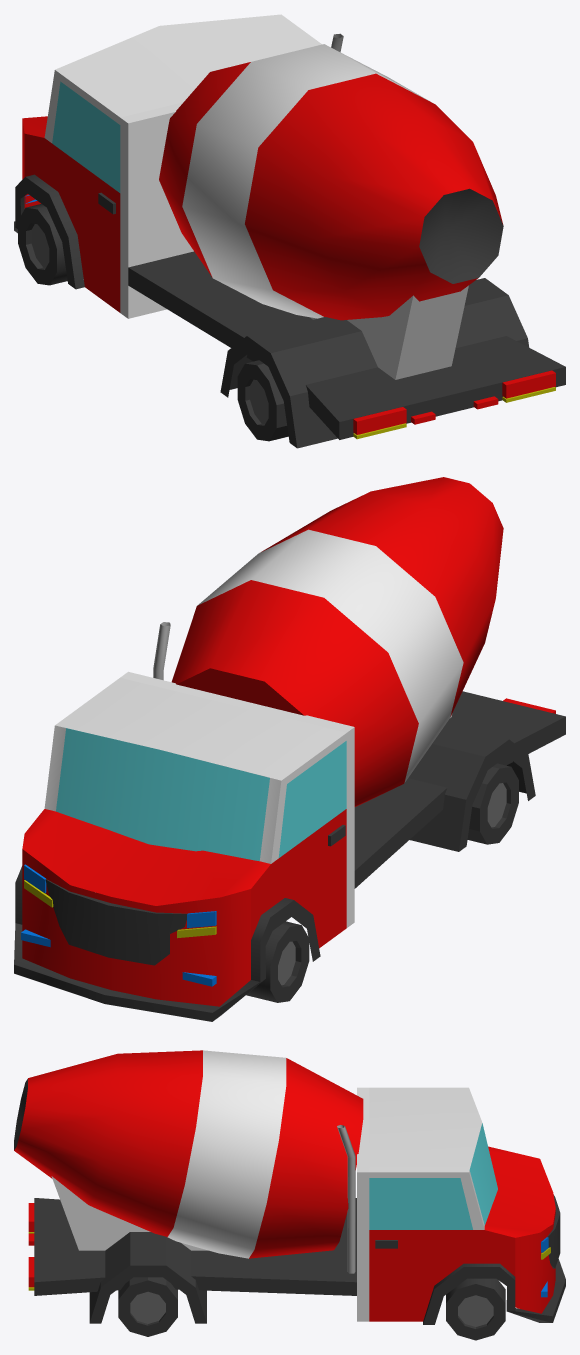
Rendered from Prop_CementTruck_Mod_01.fbx.
The picture shows the model from 3 angles, top to bottom: view 1: azimuth 30°, elevation 25°; view 2: azimuth 150°, elevation 25°; view 3: azimuth 270°, elevation 25°; orthographic projection. The views are drawn at different scales.
Visible parts, largest first — view 1: Body, Mixer, Wheels, Lights; view 2: Body, Mixer, Wheels, Lights; view 3: Body, Mixer, Wheels, Lights.
Boxes of the visible parts, <box> form: Body: <box>14,14,565,448</box>; Mixer: <box>159,44,503,320</box>; Wheels: <box>18,204,288,441</box>; Lights: <box>25,195,555,439</box>; Body: <box>14,622,565,1021</box>; Mixer: <box>171,477,503,806</box>; Wheels: <box>246,763,518,1002</box>; Lights: <box>21,698,555,986</box>; Body: <box>34,1087,565,1324</box>; Mixer: <box>14,1050,363,1258</box>; Wheels: <box>118,1277,505,1340</box>; Lights: <box>28,1203,550,1297</box>.
Size of the model in its own units: 9.85 by 11.26 by 24.43.
